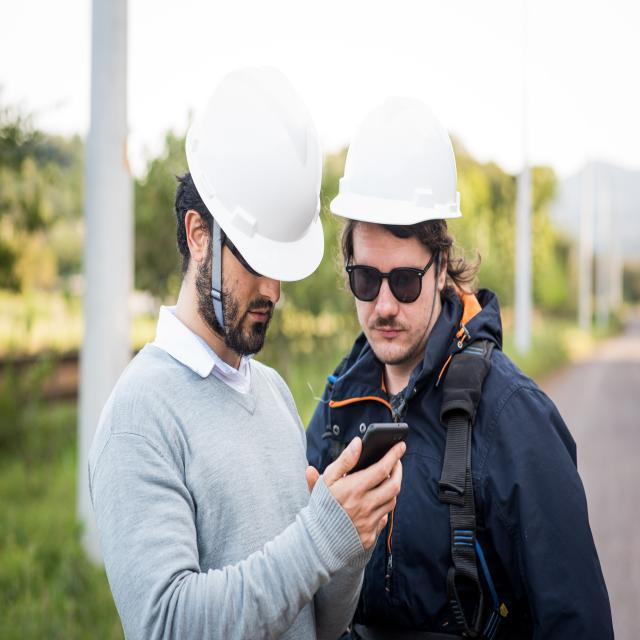capacete: (183, 63, 325, 281), (328, 94, 462, 225)
